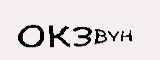В: (94, 27, 106, 45)
З: (72, 24, 93, 48)
К: (47, 22, 73, 49)
Н: (119, 28, 135, 42)
О: (16, 23, 45, 49)
Ү: (108, 27, 119, 44)
